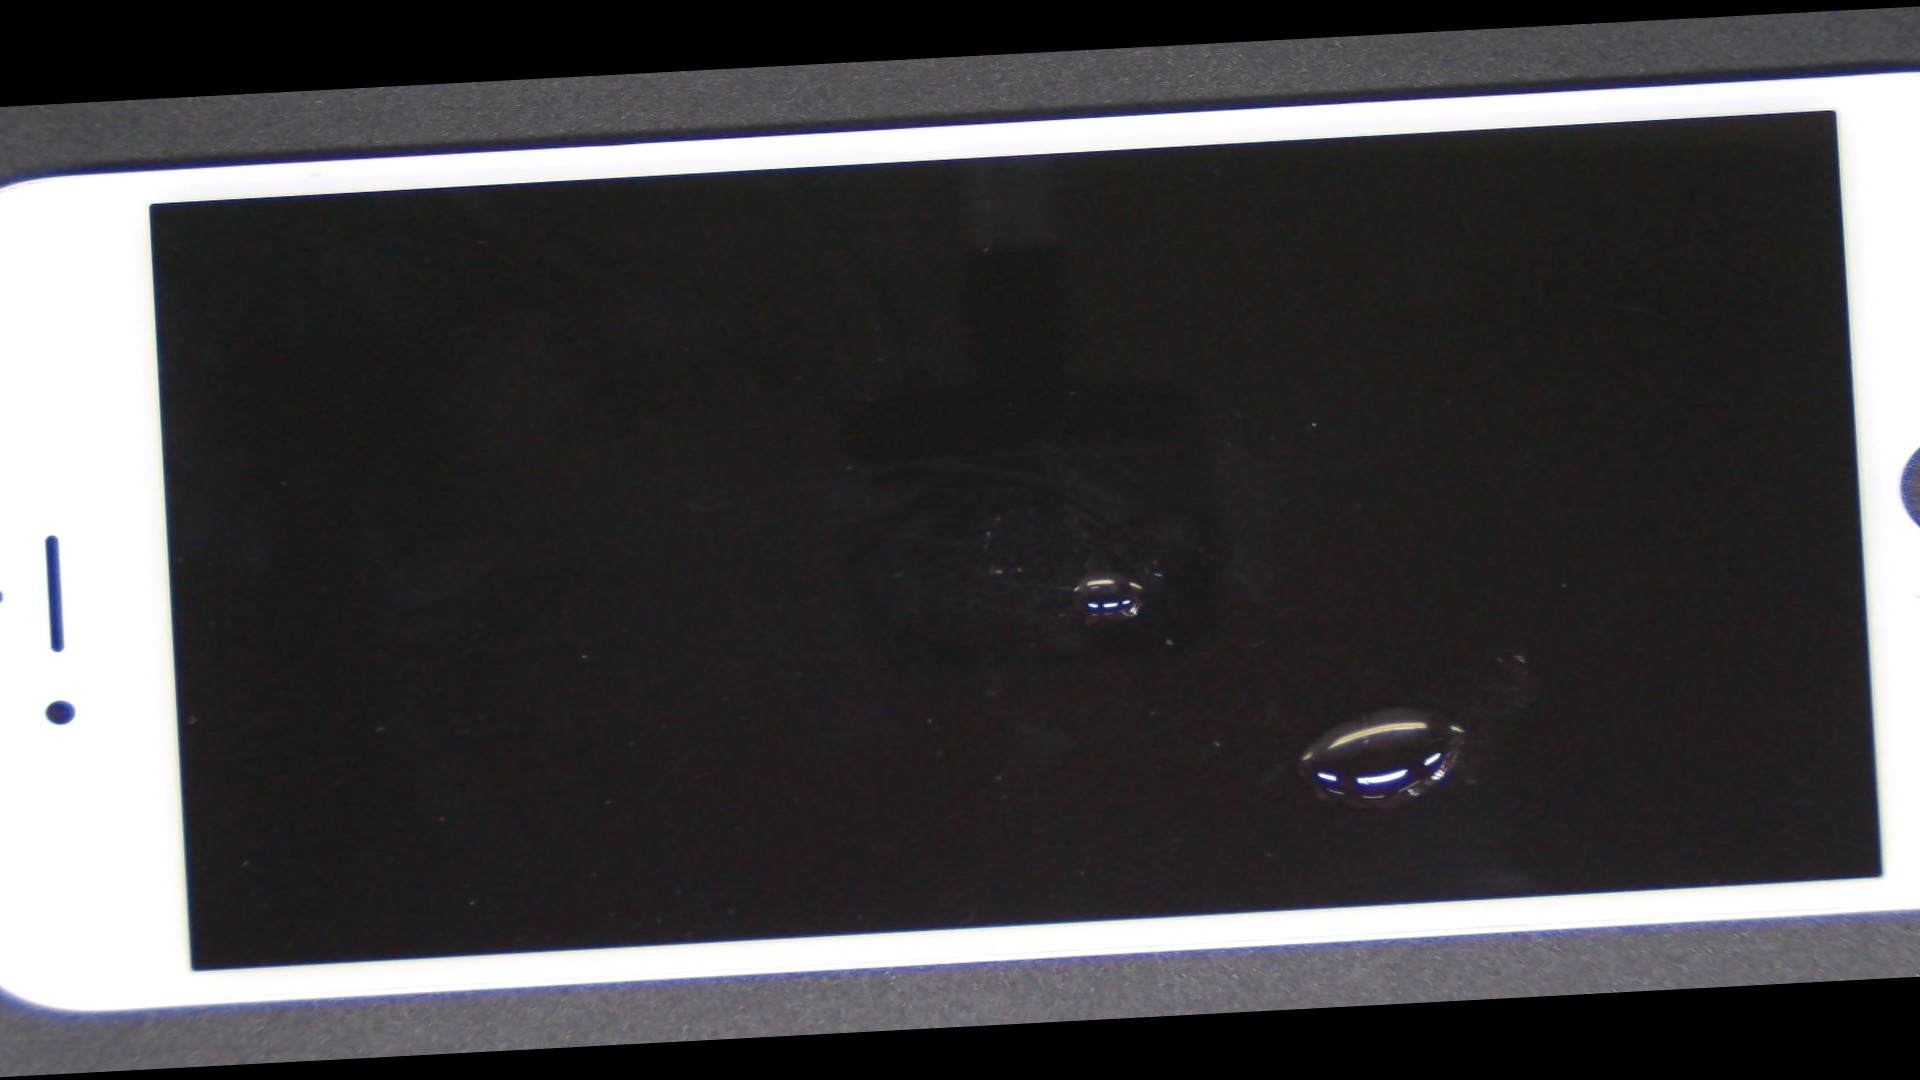oil: (654, 335, 1920, 1042), (510, 281, 1692, 862)
